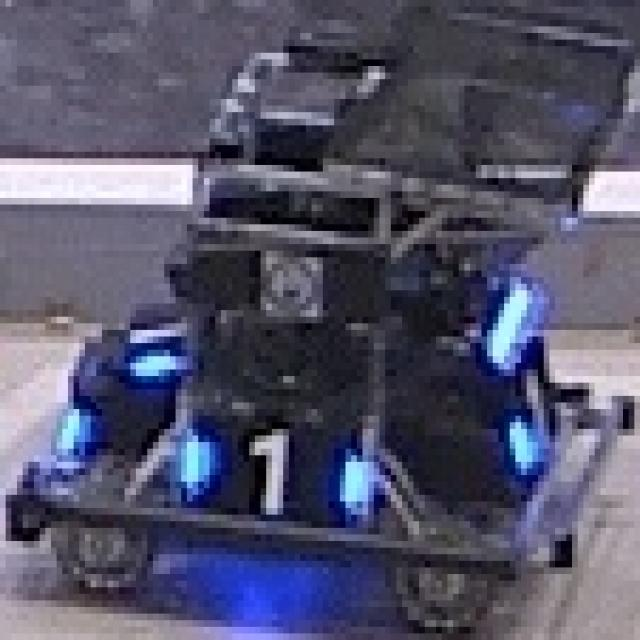B1: (176, 422, 380, 515)
